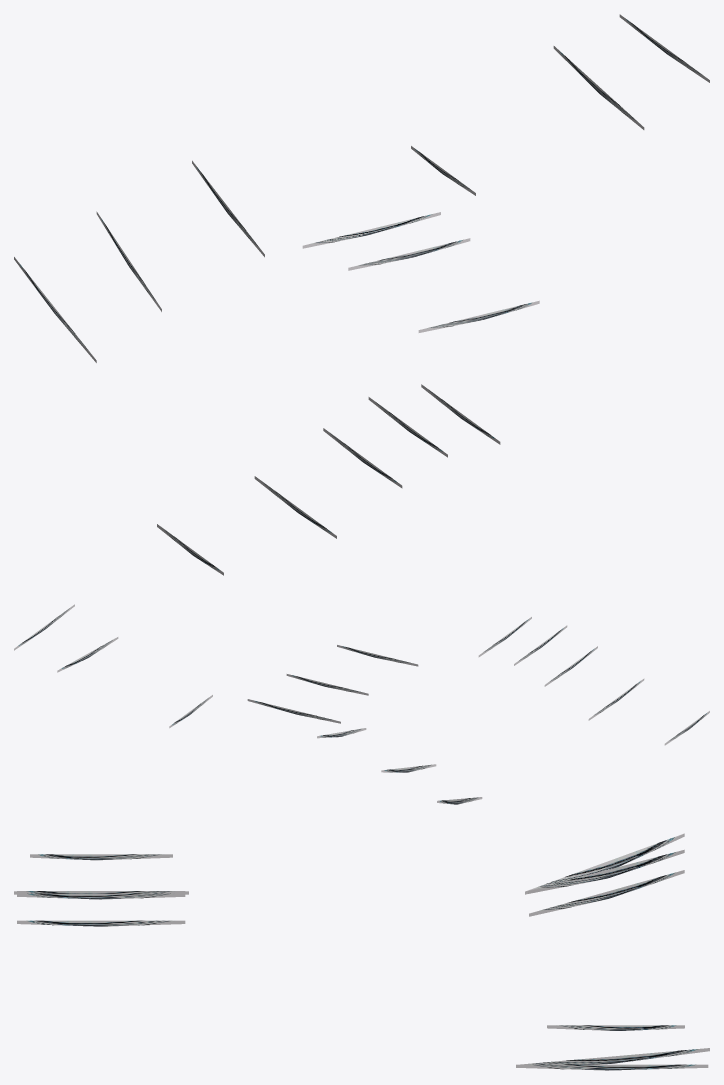
Rendered from cables_sfw24.obj.
3 renders of one model, top to bottom at view 1: azimuth 30°, elevation 25°; view 2: azimuth 150°, elevation 25°; view 3: azimuth 270°, elevation 25°, orthographic. The views are drawn at different scales.
Parts seen in each view (by area): view 1: cables_sfw24; view 2: cables_sfw24; view 3: cables_sfw24.
Part boxes in pixels (x1,y1,x2,y2): cables_sfw24: [14, 14, 709, 575]; cables_sfw24: [14, 604, 709, 804]; cables_sfw24: [14, 833, 709, 1070].
Bounding box in the file's own units: 137 × 28.76 × 109.
1 material, 1 textured.
